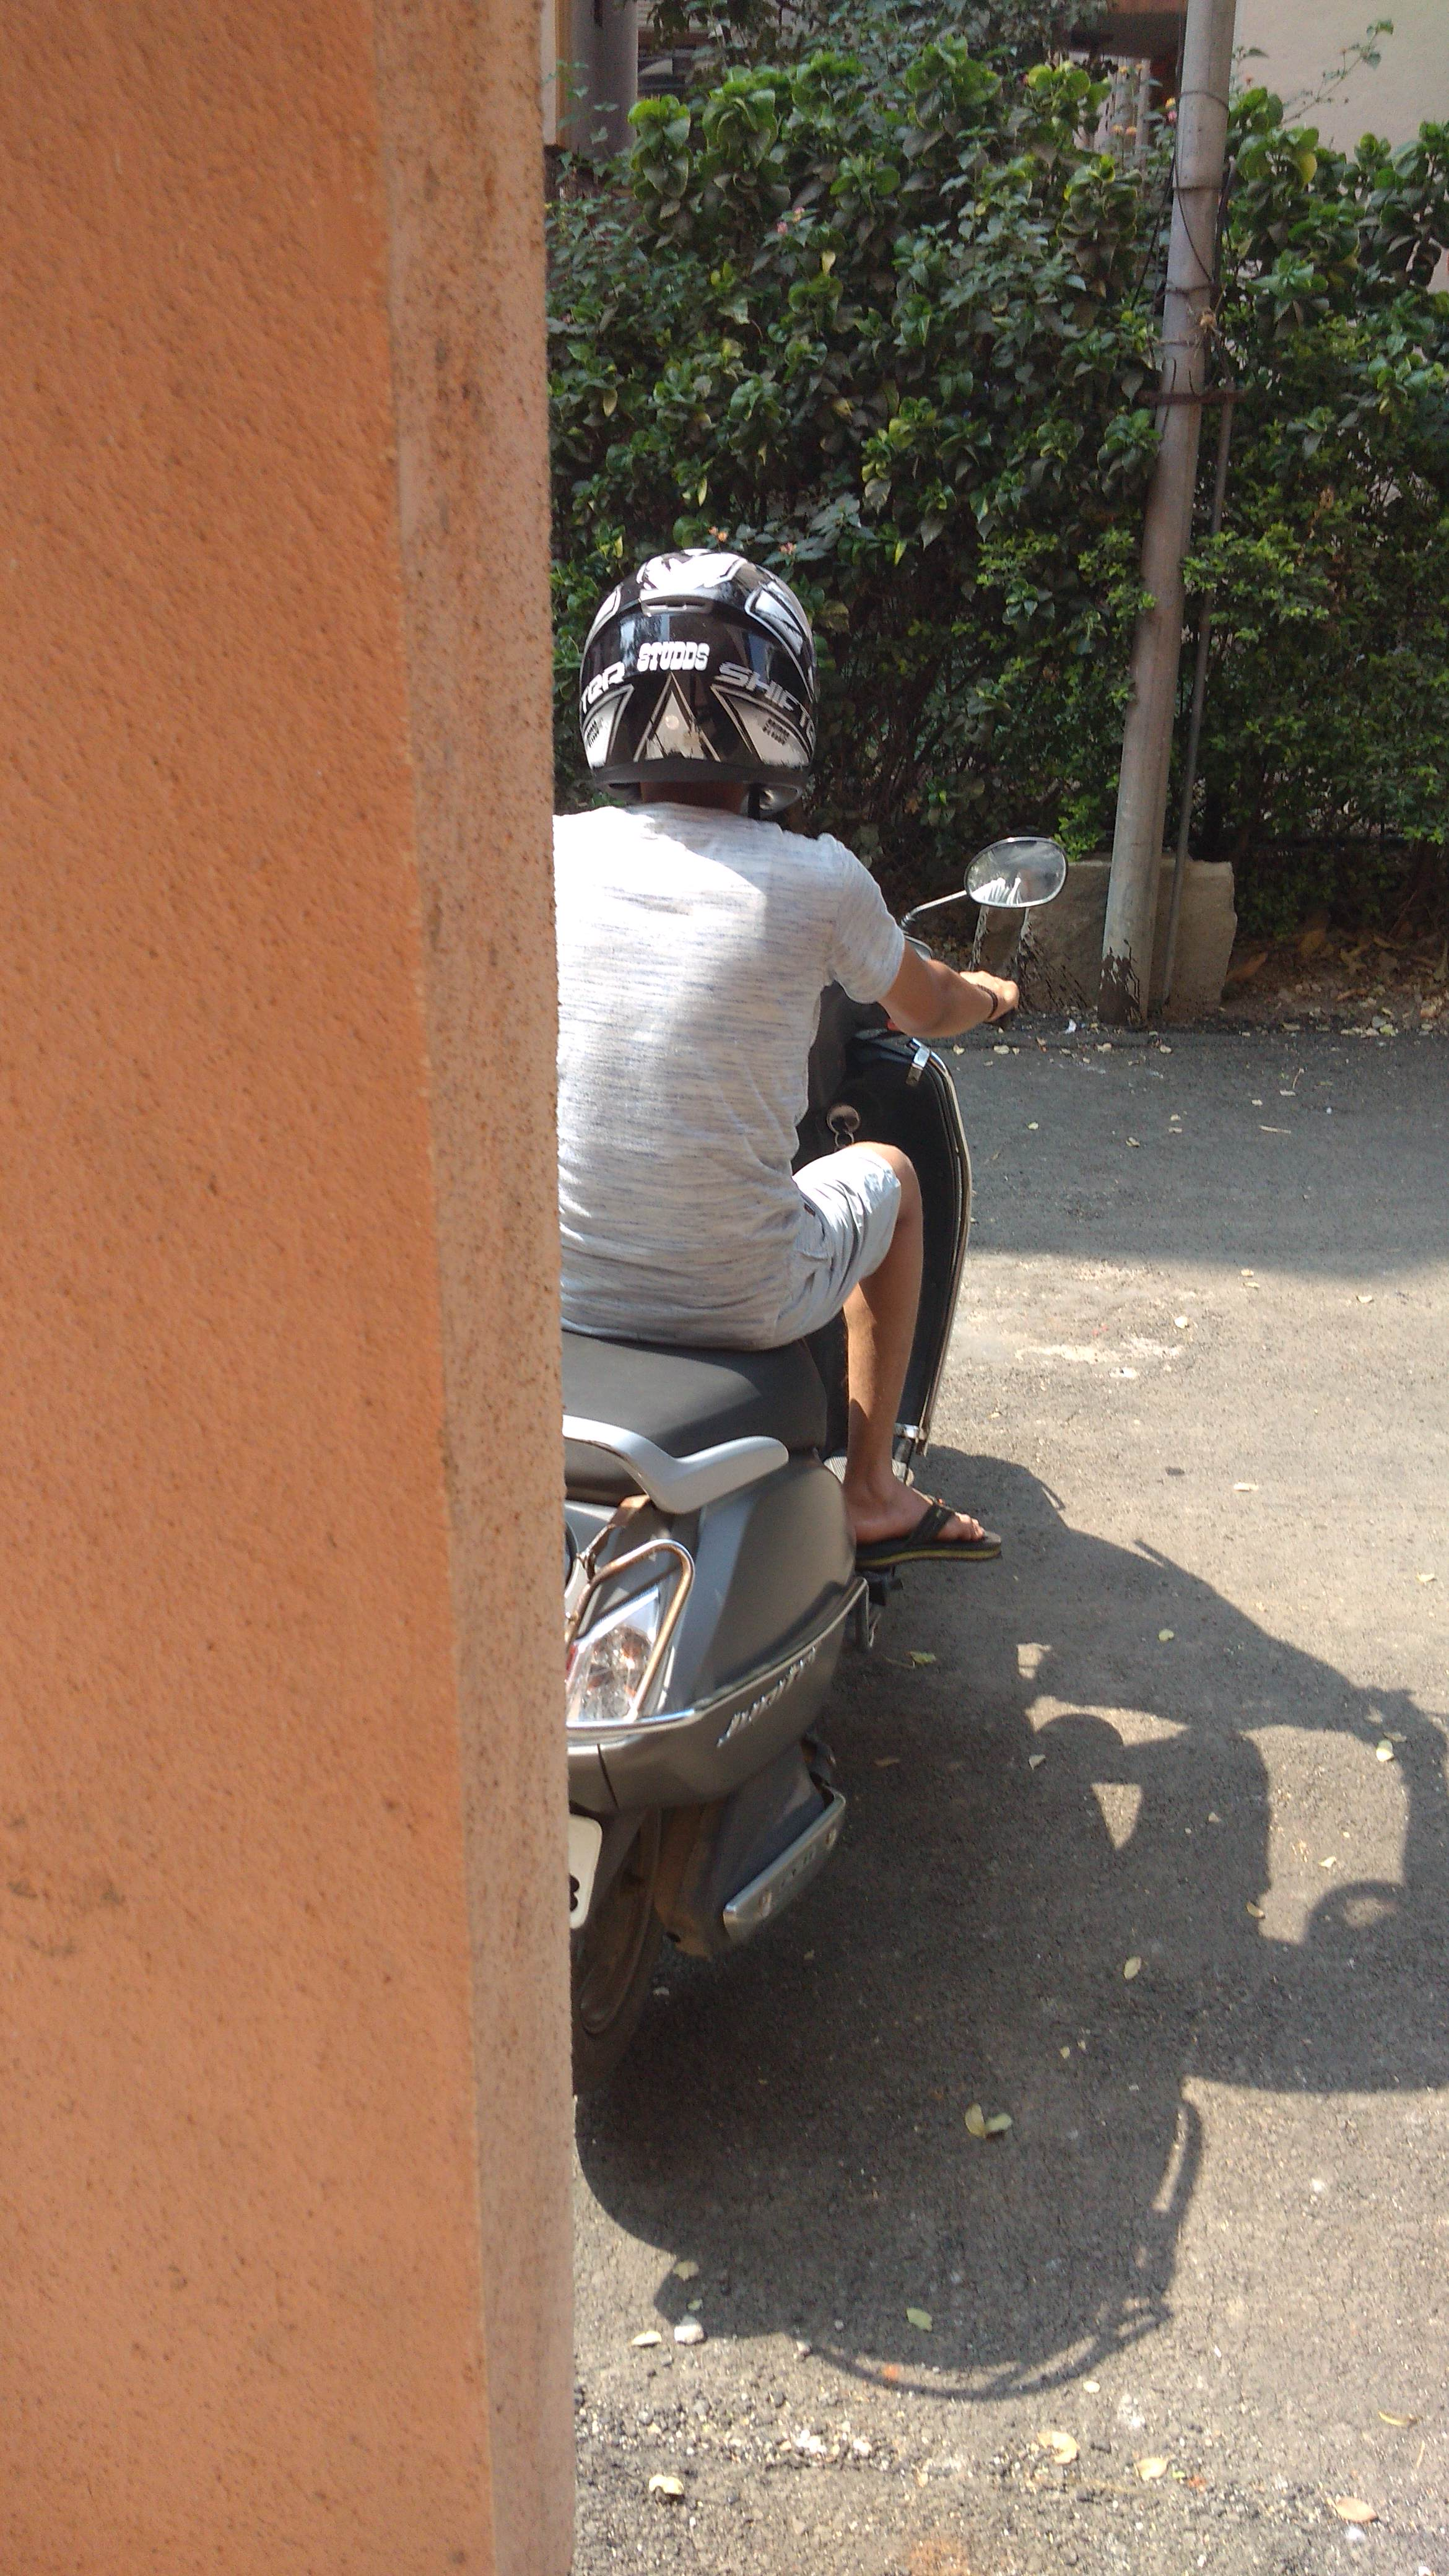helmet: (488, 504, 1092, 2077)
